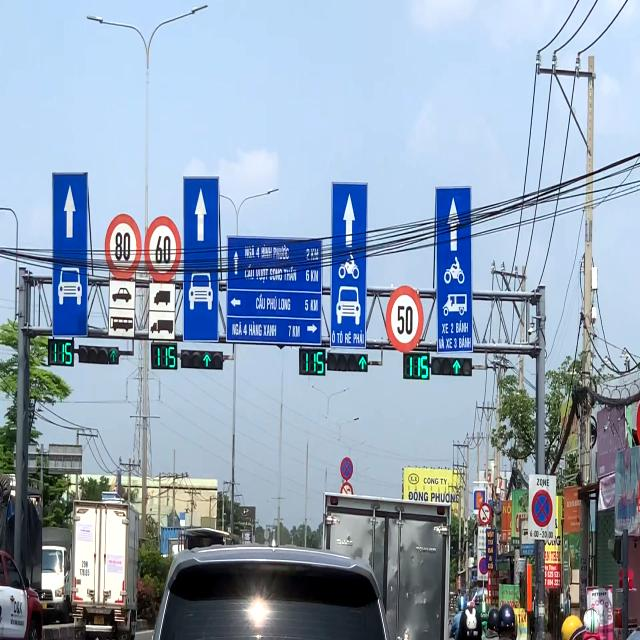P.127: (144, 216, 182, 282), (104, 212, 140, 281), (386, 286, 422, 354)
P.130: (530, 488, 554, 529), (339, 455, 353, 481)
